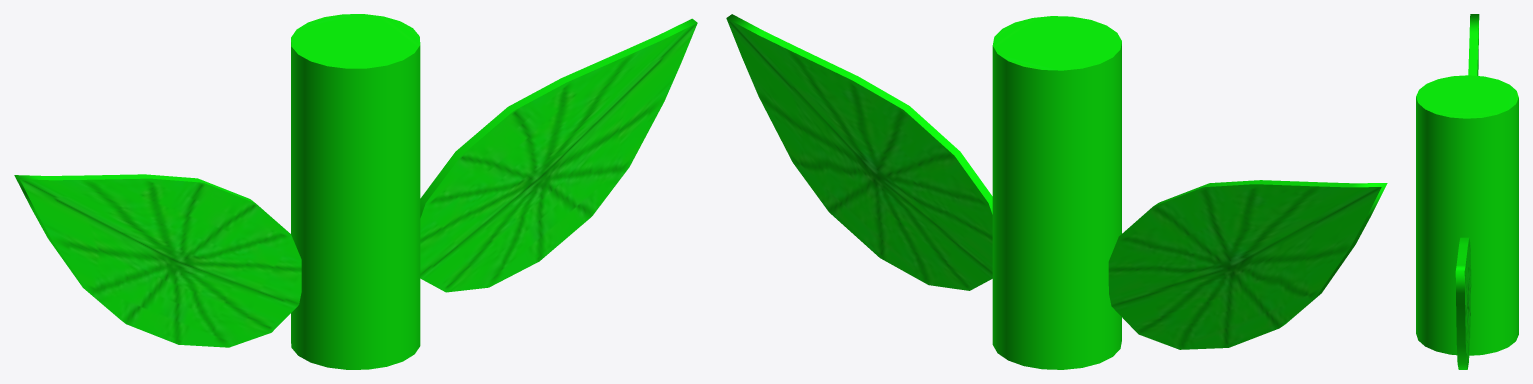
Rendered from spring_flower_body.obj.
The picture shows the model from 3 angles, left to right: view 1: azimuth 30°, elevation 25°; view 2: azimuth 150°, elevation 25°; view 3: azimuth 270°, elevation 25°; orthographic projection. The views are drawn at different scales.
Visible parts, largest first — view 1: polySurface78; view 2: polySurface78; view 3: polySurface78.
Part boxes in pixels (x1,y1,x2,y2): polySurface78: (14, 14, 697, 369); polySurface78: (726, 14, 1387, 369); polySurface78: (1416, 14, 1518, 369).
Bounding box in the file's own units: 1.56 × 0.6693 × 0.2629.
1 material, 1 textured.
